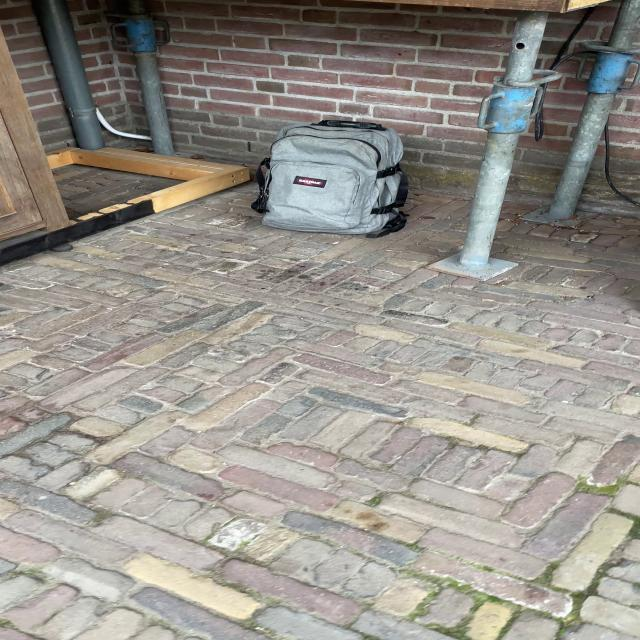backpack: (243, 114, 416, 240)
